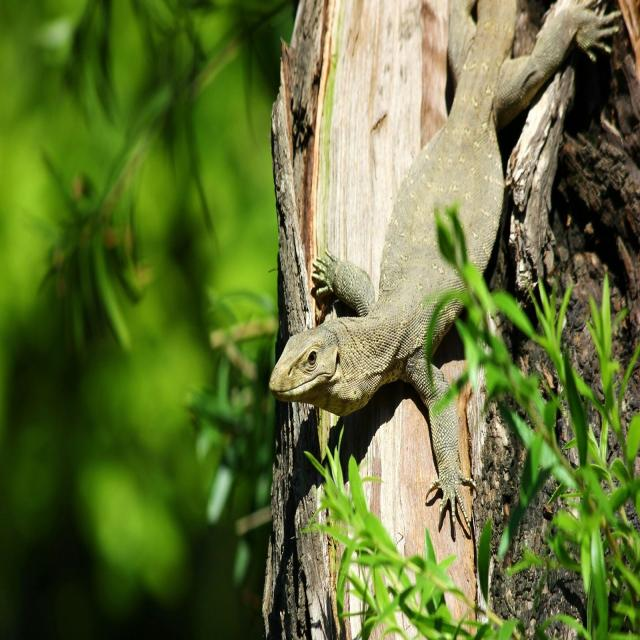Lizard: (266, 0, 616, 545)
